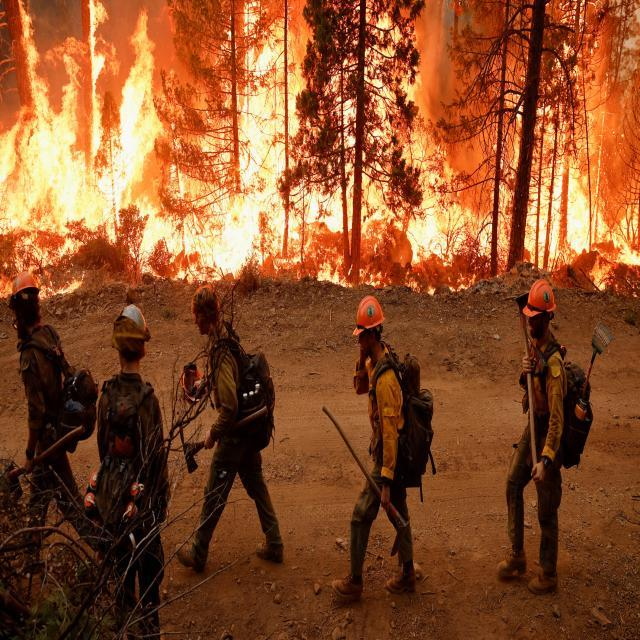Fire: (0, 0, 640, 305)
